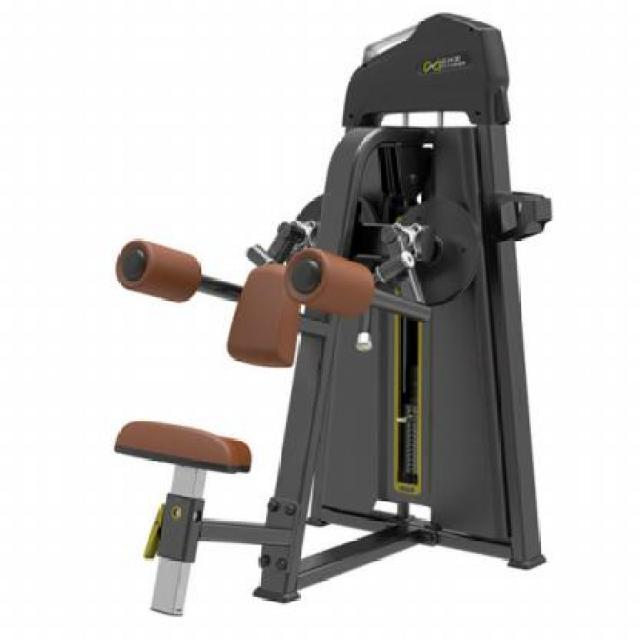lateral raises machine: (114, 11, 552, 615)
